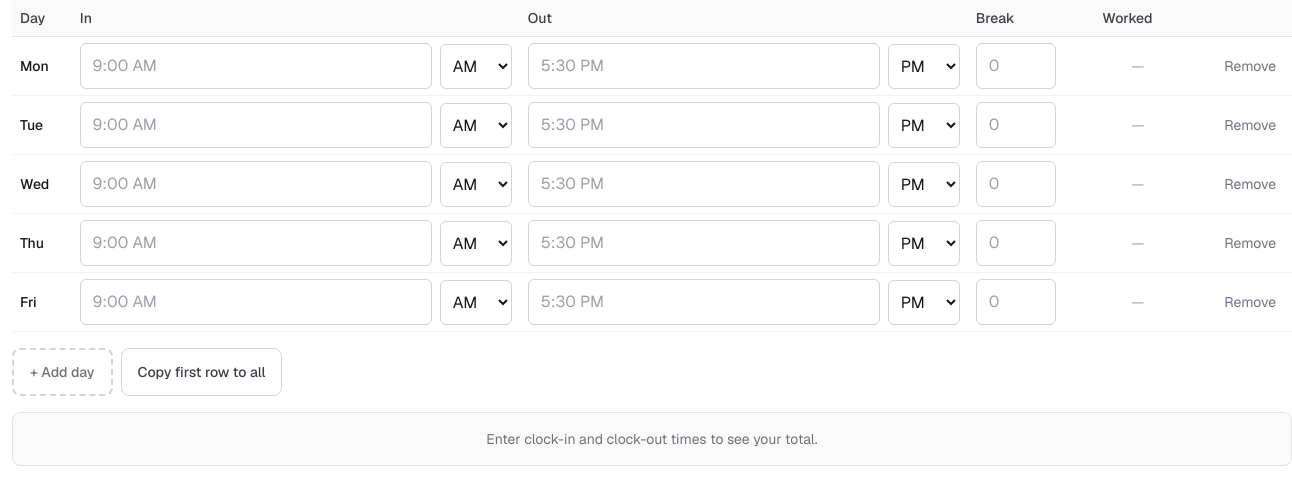
Test case: TimeCardCalculator › calculates overnight work period (10:00 PM to 6:00 AM)
The width and height of the screenshot is (1292, 495).
Step 1. Type "10:00 PM" into the field with placeholder "9:00 AM" next to "Mon" → (256, 66), box [80,43,432,89]
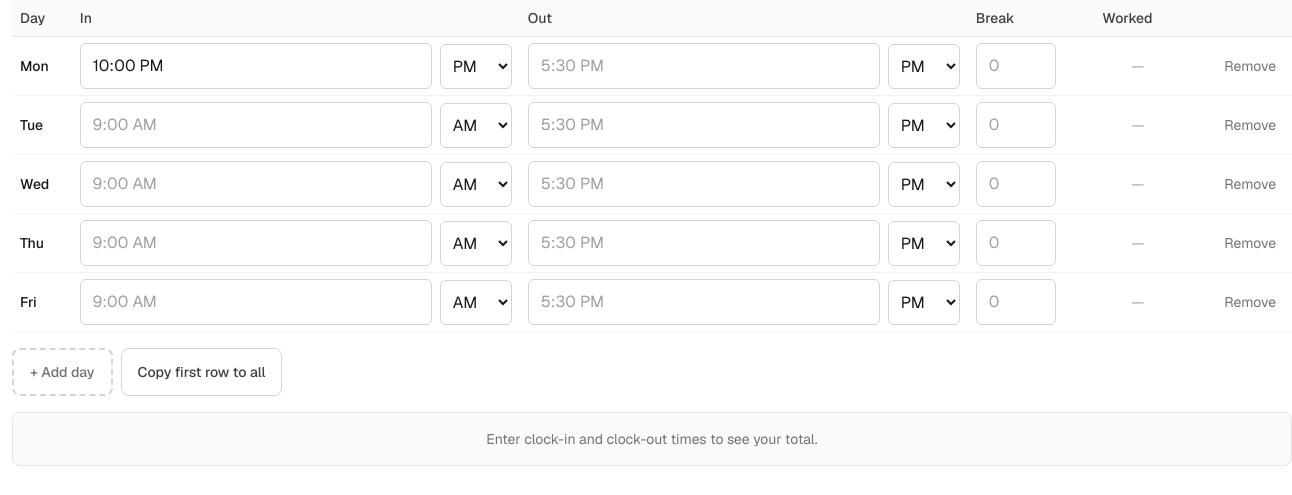
Step 2. Type "6:00 AM" into the field with placeholder "5:30 PM" in the row of "Mon" → (704, 66), box [528,43,880,89]
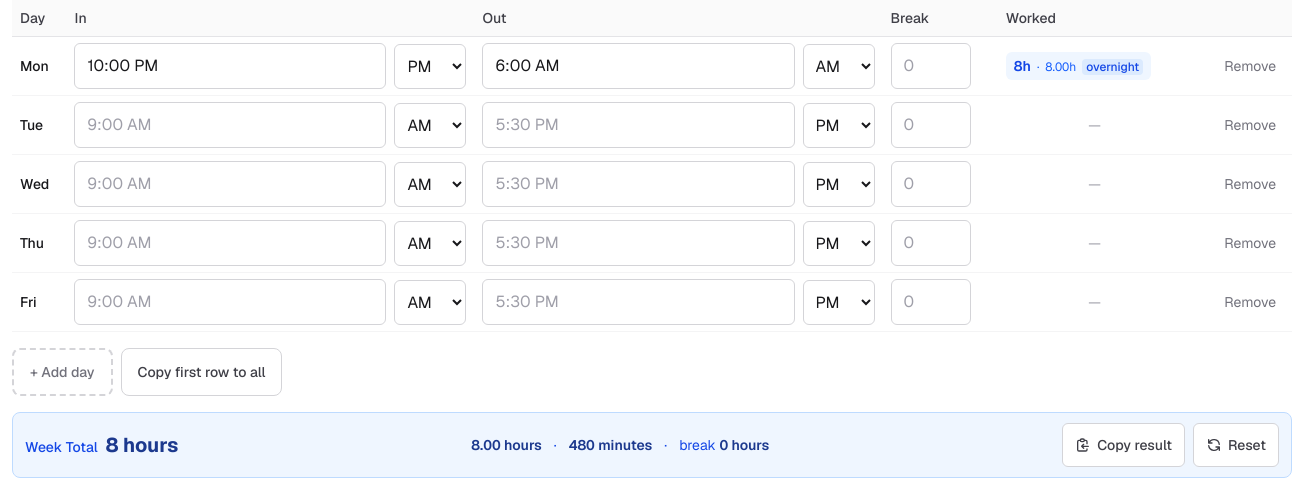
Now the text "8h" is shown, box [1014,56,1031,76]
Now the text "overnight" is shown, box [1082,59,1143,75]
